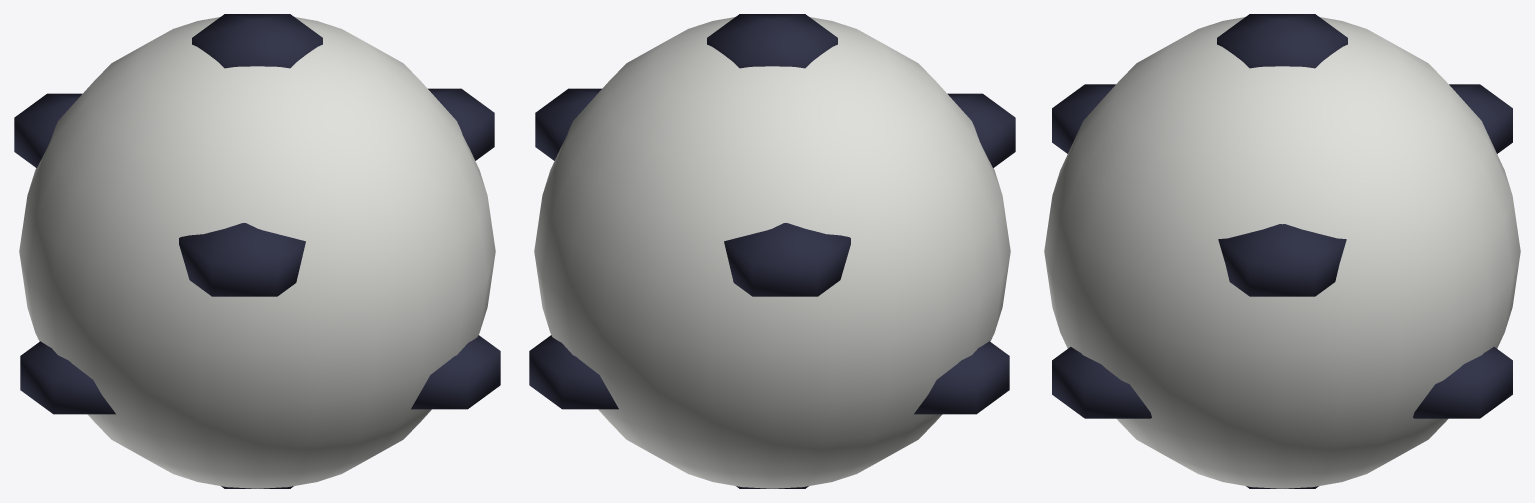
The model's file is football.glb.
3 renders of one model, left to right at view 1: azimuth 30°, elevation 25°; view 2: azimuth 150°, elevation 25°; view 3: azimuth 270°, elevation 25°, orthographic.
Visible parts, largest first — view 1: football; view 2: football; view 3: football.
Part boxes in pixels (box(x1,y1,x2,y2)): football: box(14, 14, 500, 488); football: box(529, 14, 1015, 488); football: box(1044, 14, 1520, 488).
Bounding box in the file's own units: 0.2353 × 0.235 × 0.22.
